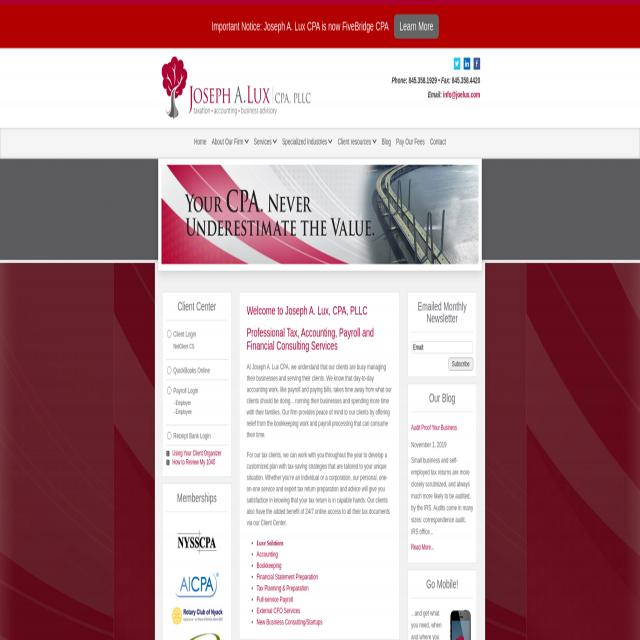button: (155, 48, 317, 128), (279, 128, 335, 162), (176, 521, 218, 564), (335, 128, 379, 162), (209, 128, 251, 162), (174, 570, 220, 598), (393, 128, 427, 162), (394, 14, 439, 39), (171, 606, 224, 626), (251, 128, 280, 162), (428, 128, 448, 162), (191, 128, 209, 162), (379, 128, 393, 162), (448, 357, 474, 371), (454, 58, 460, 69), (464, 58, 470, 69), (474, 58, 480, 69)
field: (411, 342, 473, 353), (167, 330, 171, 338), (167, 366, 171, 374), (167, 386, 171, 394), (167, 432, 171, 439)
